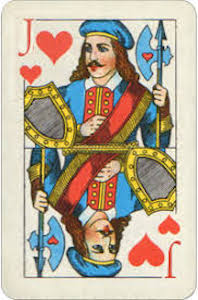JackOfHearts: (3, 1, 196, 299)
